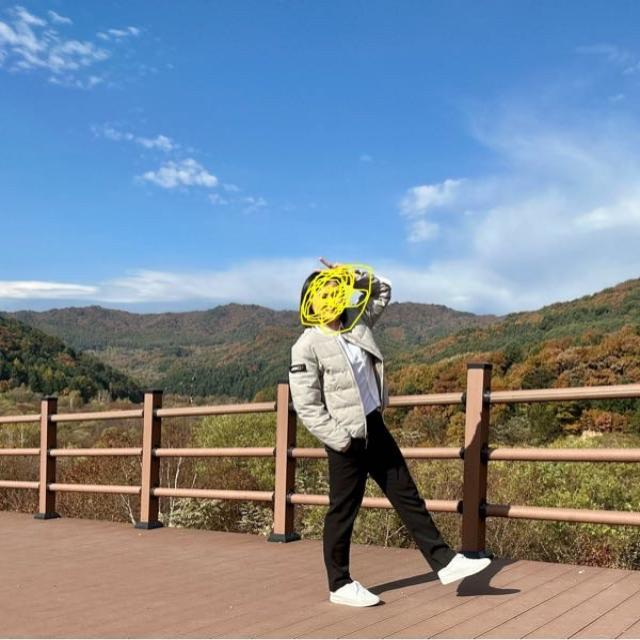denimpants: (322, 406, 455, 594)
padding: (290, 264, 393, 452)
